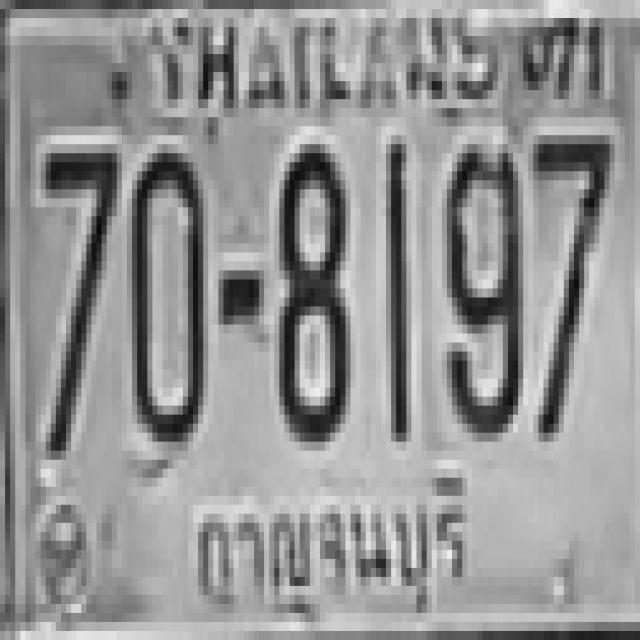0: (127, 144, 203, 442)
1: (381, 135, 406, 433)
7: (528, 126, 610, 433), (40, 140, 116, 446)
8: (274, 135, 346, 433)
9: (442, 135, 518, 433)
Kanchanaburi: (179, 462, 484, 620)
